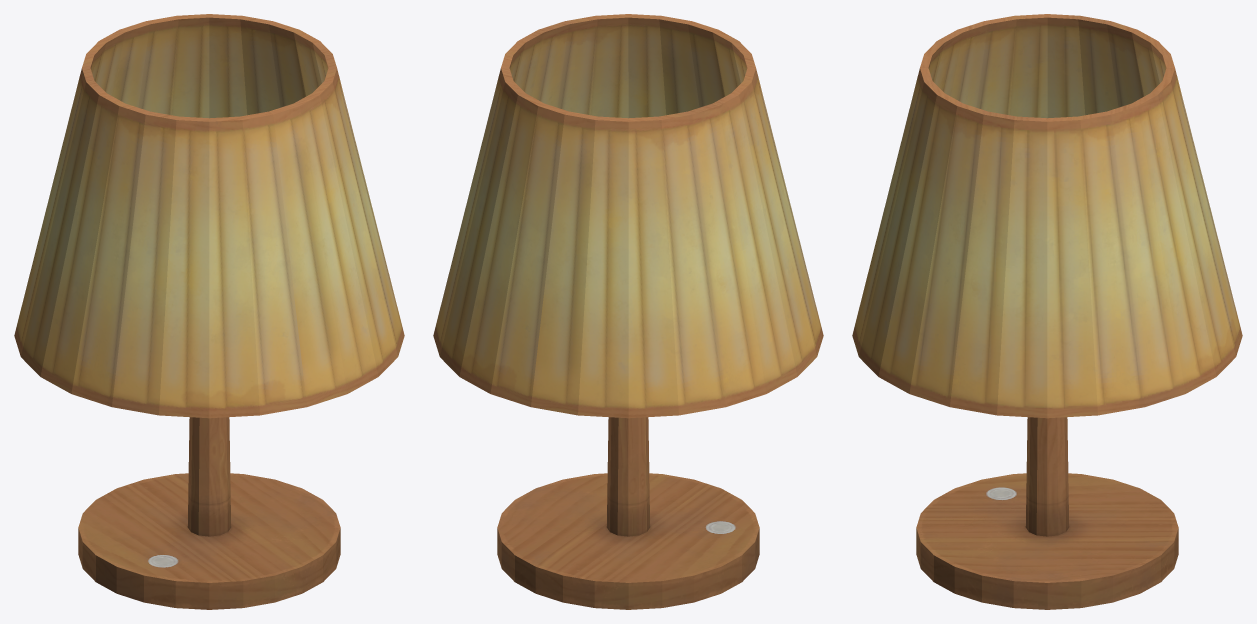
Rendered from P_Lamp_004_S1_M01.obj.
3 renders of one model, left to right at view 1: azimuth 30°, elevation 25°; view 2: azimuth 150°, elevation 25°; view 3: azimuth 270°, elevation 25°, orthographic.
Bounding box in the file's own units: 0.5625 × 0.7735 × 0.5625.
Materials: 2 (2 with a texture image).
